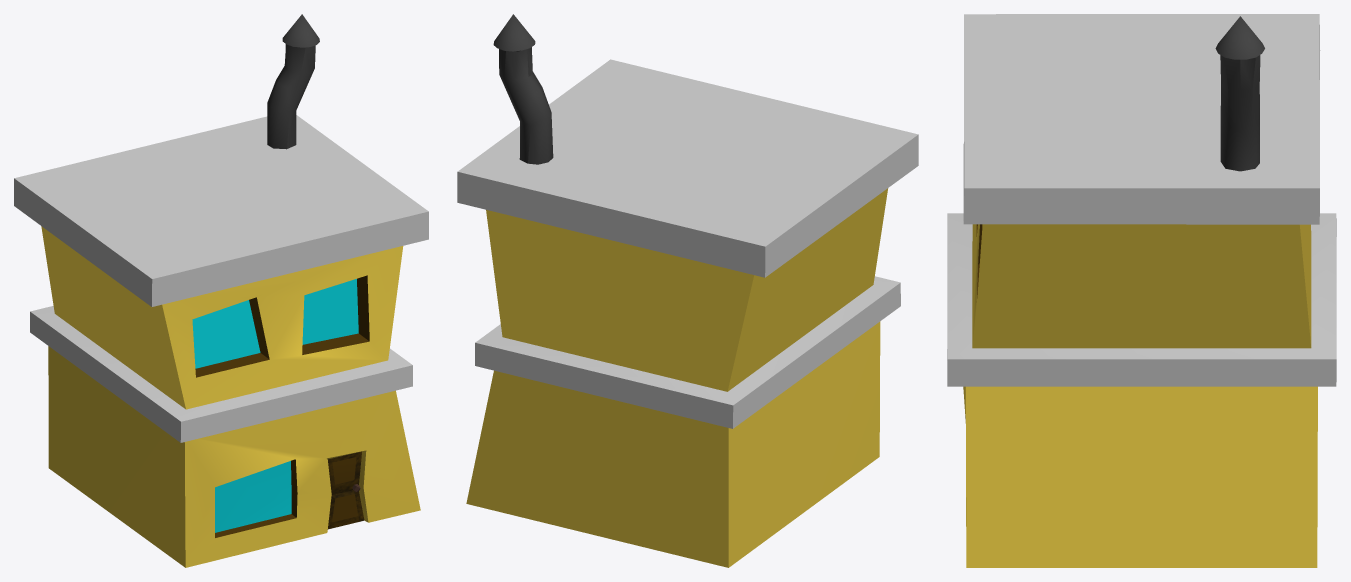
Rendered from PredioPequeno-AmareloLOD1.fbx.
3 renders of one model, left to right at view 1: azimuth 30°, elevation 25°; view 2: azimuth 150°, elevation 25°; view 3: azimuth 270°, elevation 25°, orthographic. The views are drawn at different scales.
Visible parts, largest first — view 1: Predio2AndaresLOD1; view 2: Predio2AndaresLOD1; view 3: Predio2AndaresLOD1.
Boxes of the visible parts, box(x1,y1,x2,y2) form: Predio2AndaresLOD1: box(14, 14, 428, 567); Predio2AndaresLOD1: box(457, 14, 918, 567); Predio2AndaresLOD1: box(947, 14, 1336, 567).
Size of the model in its own units: 712 by 1035 by 672.
